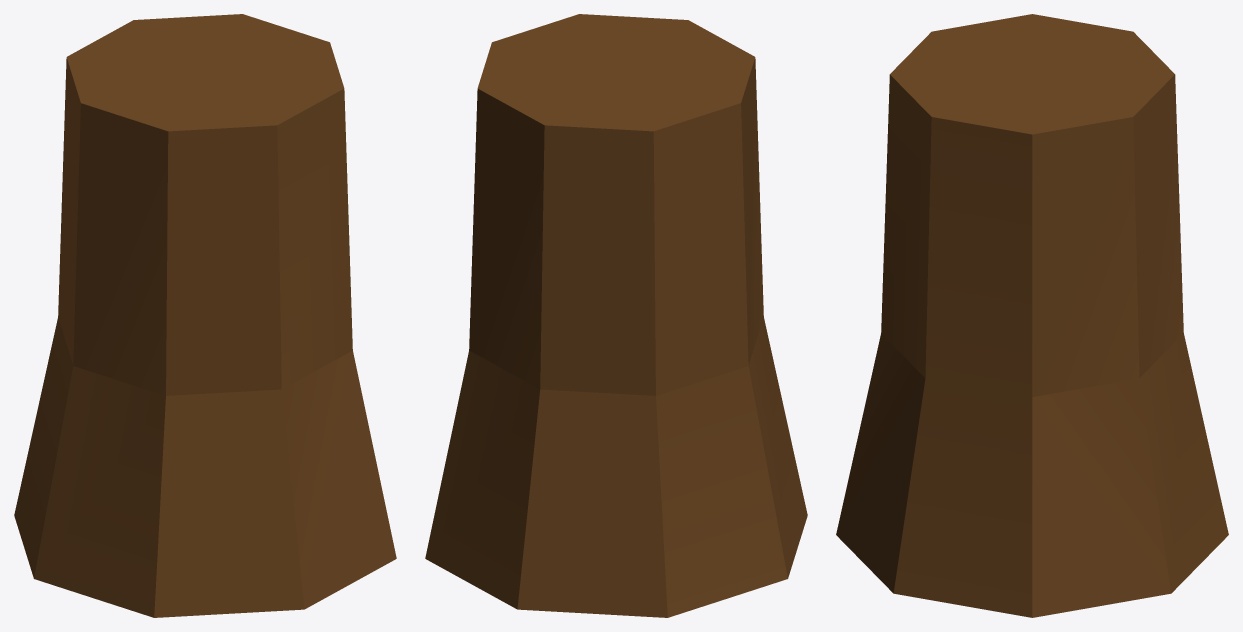
File: Under_tree.FBX
The picture shows the model from 3 angles, left to right: view 1: azimuth 30°, elevation 25°; view 2: azimuth 150°, elevation 25°; view 3: azimuth 270°, elevation 25°; orthographic projection.
Parts seen in each view (by area): view 1: Tree_Conifer_01; view 2: Tree_Conifer_01; view 3: Tree_Conifer_01.
Part boxes in pixels (x1,y1,x2,y2): Tree_Conifer_01: (14,14,396,617); Tree_Conifer_01: (425,14,807,617); Tree_Conifer_01: (836,14,1228,617).
Size of the model in its own units: 11.47 by 14.84 by 11.47.
